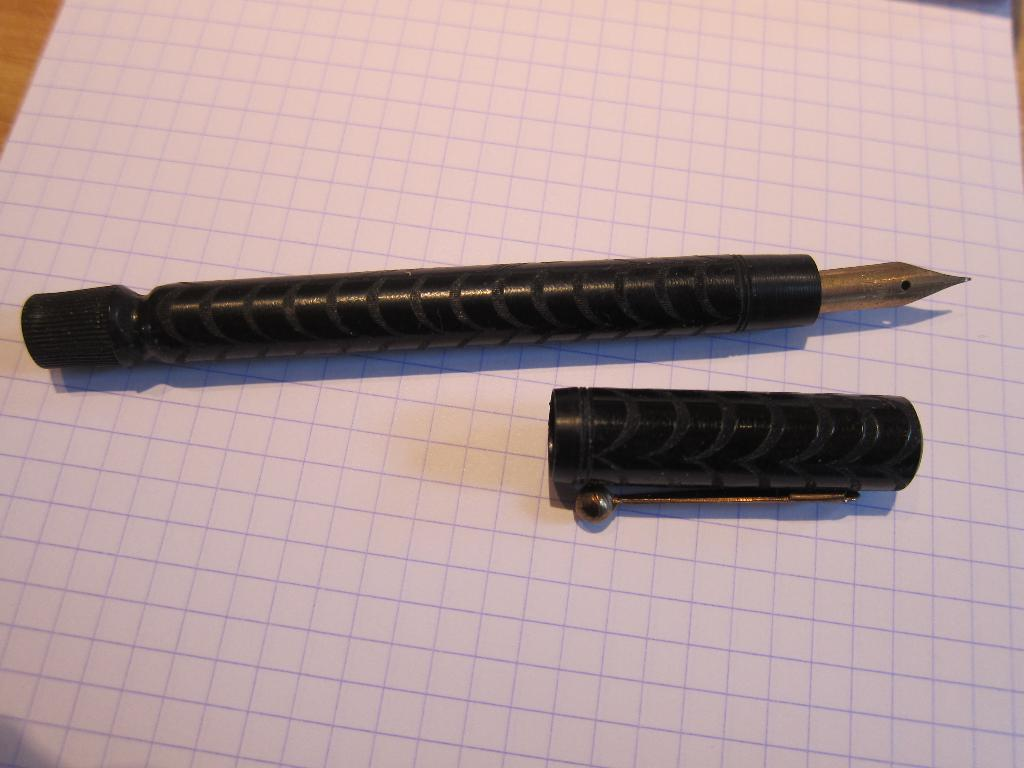Pen: (18, 258, 976, 538)
